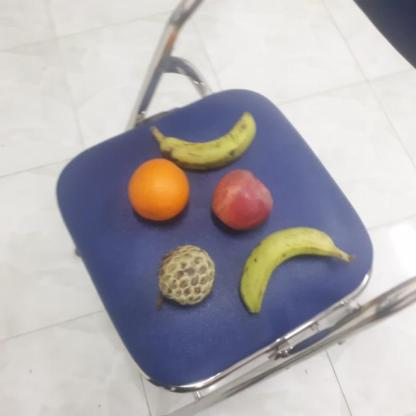annona: (153, 244, 219, 307)
apple: (209, 166, 276, 231)
banana: (240, 222, 340, 313), (152, 105, 255, 172)
orange: (126, 156, 189, 223)
